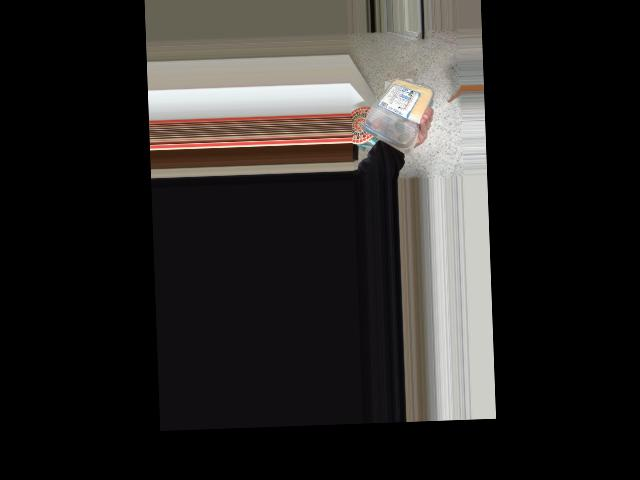cheese: (358, 70, 427, 147)
